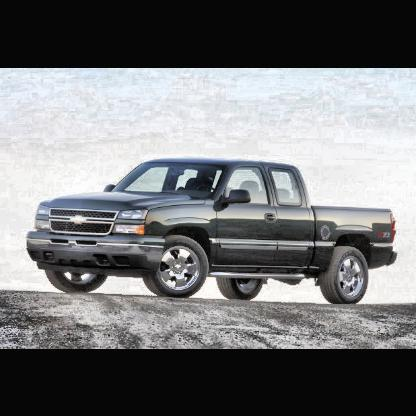Chevrolet Silverado 1500 Classic Extended Cab 2007: (28, 154, 400, 304)
